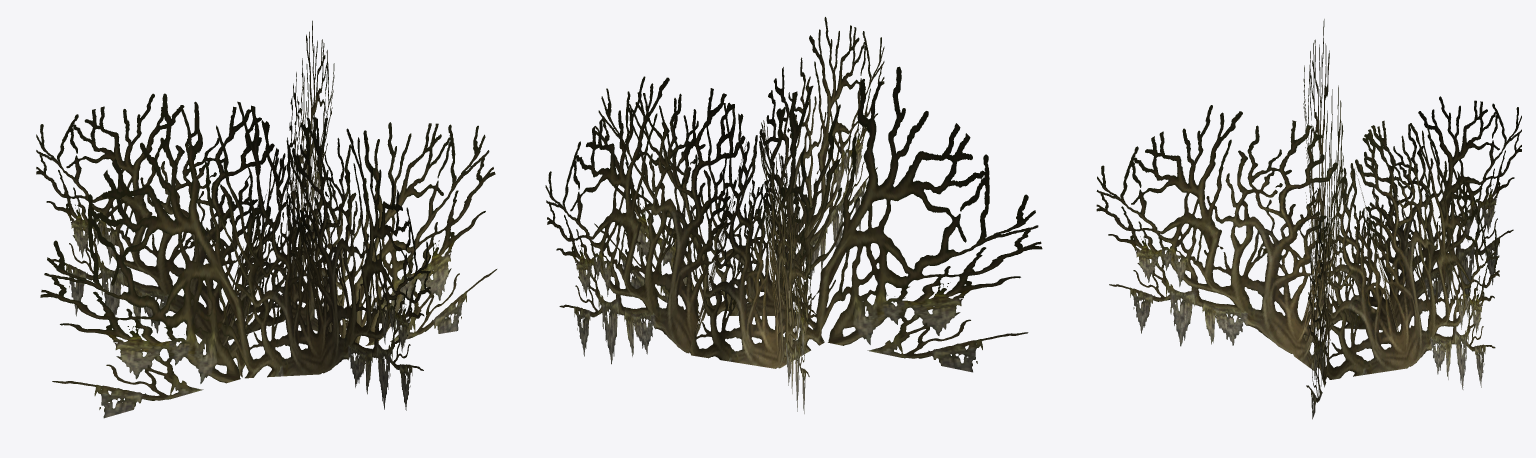
Rendered from dustwallowbush02.obj.
The picture shows the model from 3 angles, left to right: view 1: azimuth 30°, elevation 25°; view 2: azimuth 150°, elevation 25°; view 3: azimuth 270°, elevation 25°; orthographic projection. The views are drawn at different scales.
Parts seen in each view (by area): view 1: DUSTWALLOWBUSH020; view 2: DUSTWALLOWBUSH020; view 3: DUSTWALLOWBUSH020.
Part boxes in pixels (x1=…): DUSTWALLOWBUSH020: x1=36, y1=20, x2=496, y2=418; DUSTWALLOWBUSH020: x1=545, y1=17, x2=1042, y2=413; DUSTWALLOWBUSH020: x1=1096, y1=19, x2=1521, y2=419.
Size of the model in its own units: 3.76 by 2.23 by 3.05.
1 material, 1 textured.
